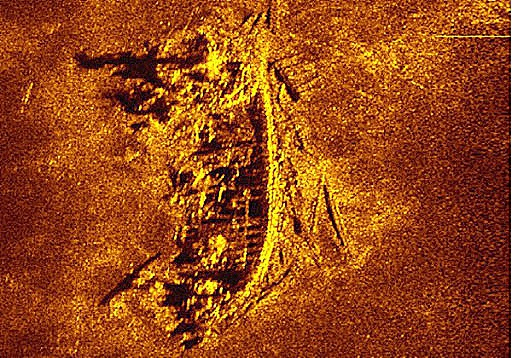ship: (166, 30, 286, 349)
